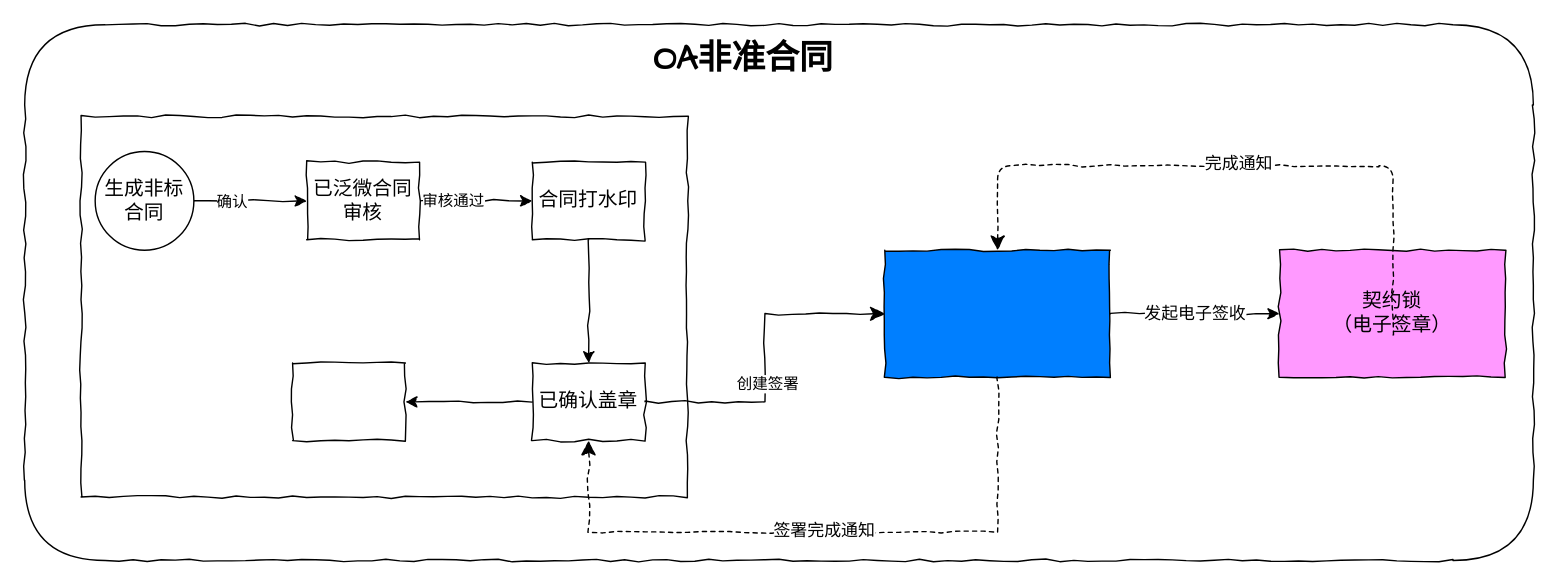
Some shapes in this 1558 by 585 pixel diagram are drawn without their labels. The shapes that lost their labels are listed below. From the top down, each one's box as (x1, y1, x2, y2) in pixels, then its label:
(883, 249, 1110, 377): 电子签统一服务
(291, 362, 405, 441): 归档
